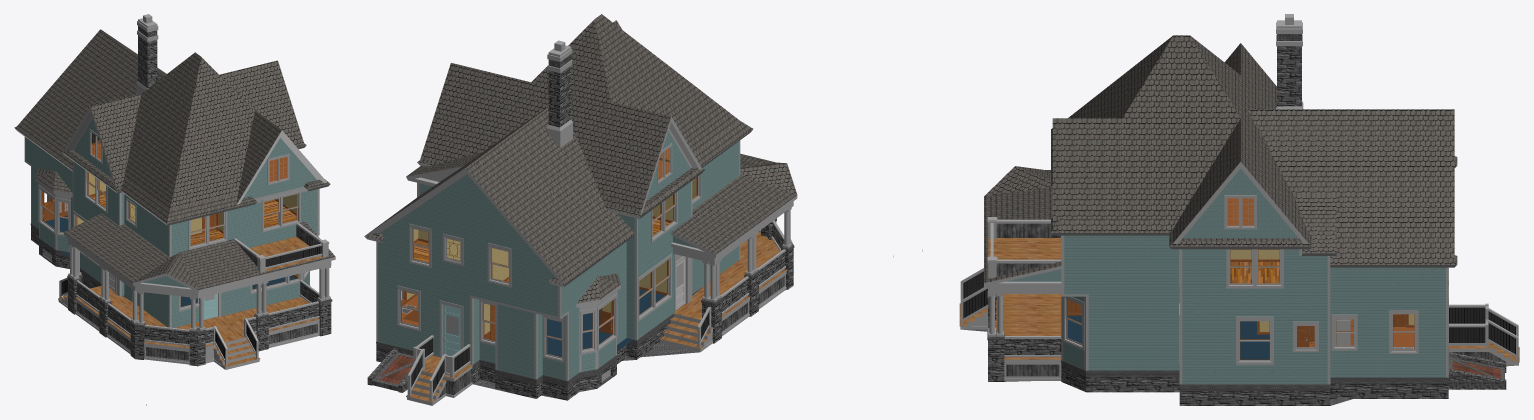
The model's file is VictorianHouseDOOR.fbx.
3 views of the same model, side by side, from view 1: azimuth 30°, elevation 25°; view 2: azimuth 150°, elevation 25°; view 3: azimuth 270°, elevation 25° (orthographic). The views are drawn at different scales.
Parts seen in each view (by area): view 1: polySurface1209; view 2: polySurface1209; view 3: polySurface1209.
Boxes of the visible parts, <box> form: polySurface1209: <box>14,14,335,405</box>; polySurface1209: <box>364,14,893,405</box>; polySurface1209: <box>922,14,1519,405</box>.
Size of the model in its own units: 563 by 530 by 879.
